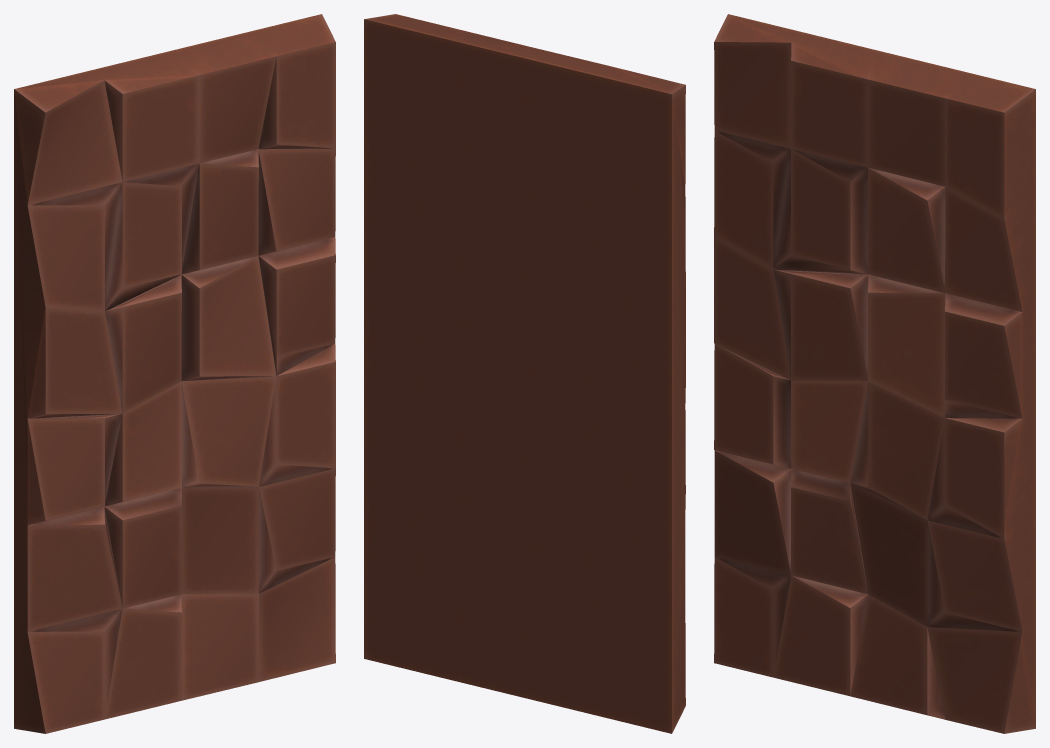
Rendered from chocolate_LOD1.fbx.
3 renders of one model, left to right at view 1: azimuth 30°, elevation 25°; view 2: azimuth 150°, elevation 25°; view 3: azimuth 330°, elevation 25°, orthographic.
Visible parts, largest first — view 1: Object_2; view 2: Object_2; view 3: Object_2.
Boxes of the visible parts, left/top/right/bottom form: Object_2: left=14, top=14, right=335, bottom=733; Object_2: left=364, top=14, right=685, bottom=733; Object_2: left=714, top=14, right=1035, bottom=733.
Size of the model in its own units: 0.0725 by 0.144 by 0.00924.
1 material, 1 textured.
